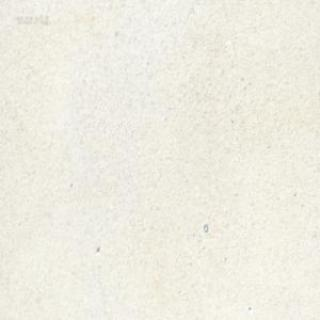Washertrack_idkeyframe: (202, 222, 207, 232)
